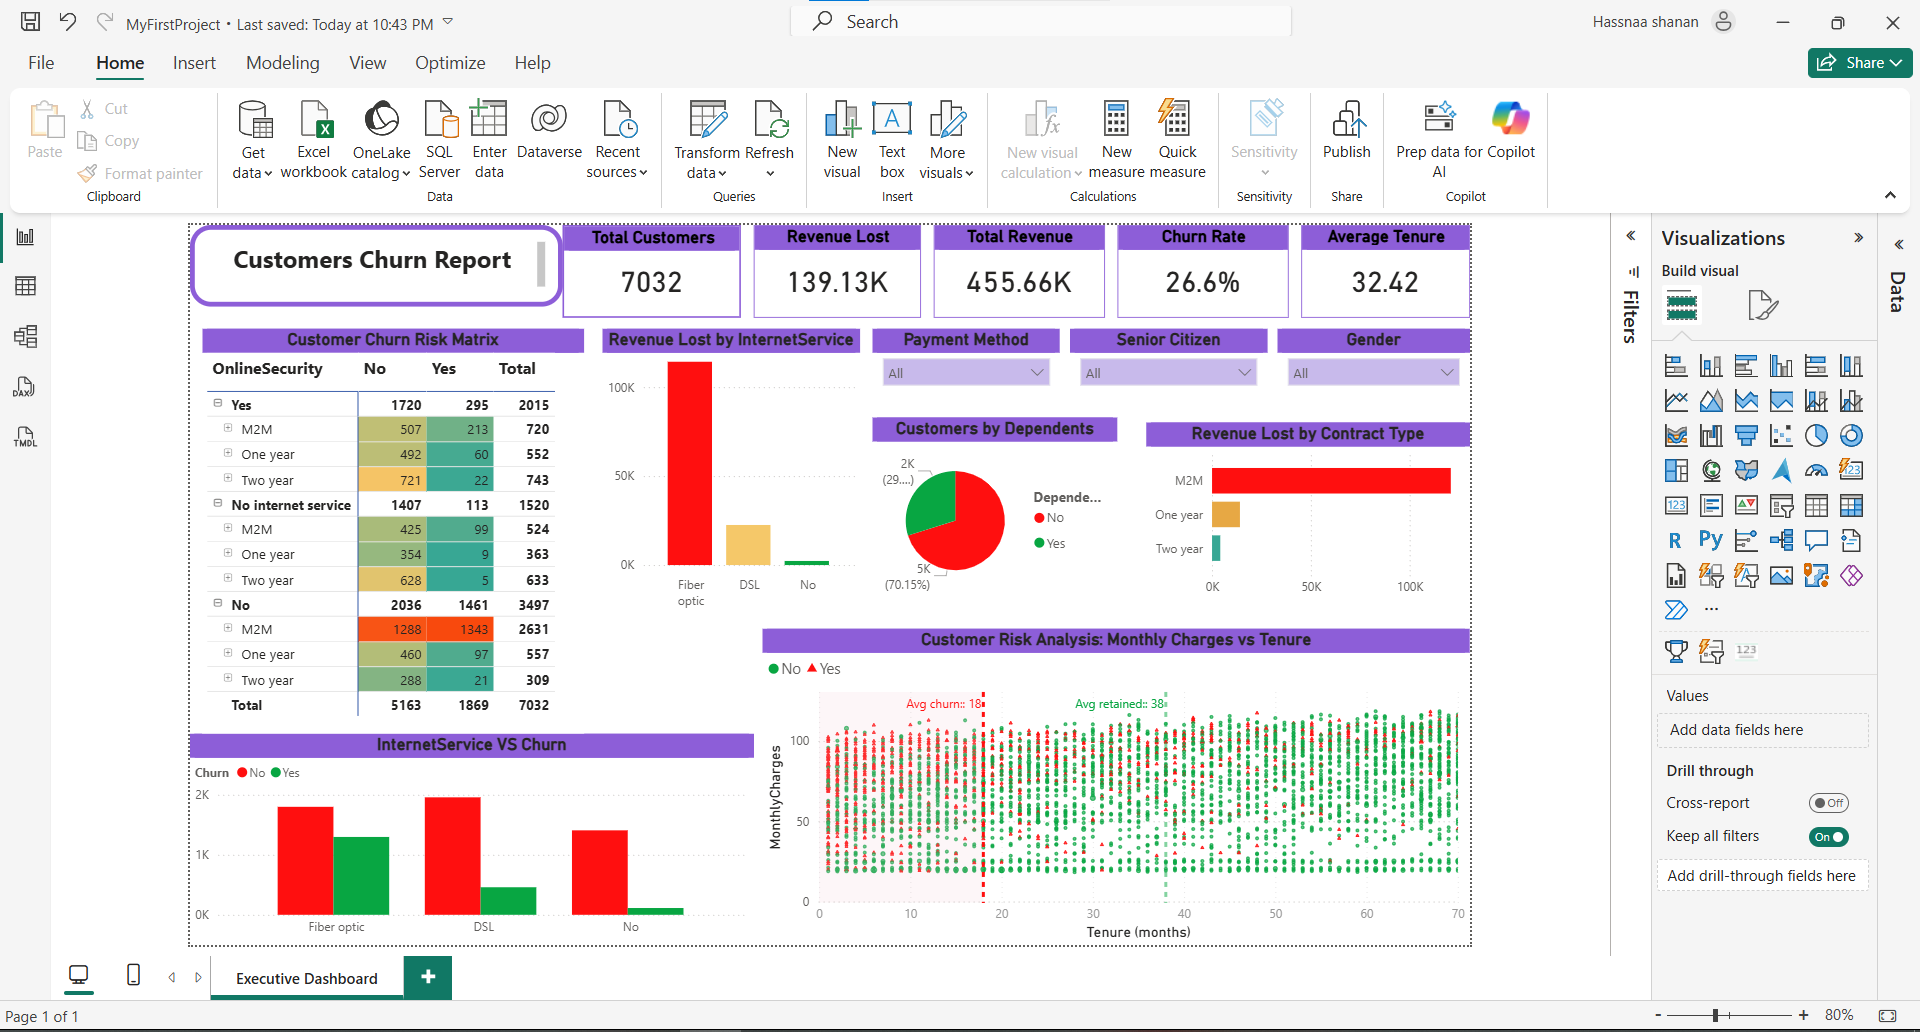

The page's visual inventory and layout, read from the dashboard file:
{"tool":"powerbi","page":{"name":"Executive Dashboard","canvas":[1280,720],"ordinal":0},"visuals":[{"type":"card","title":"Total Customers","fields":{"Values":["Measures (2).#Customers"]},"box":[372.5,0,178.8,92.5],"z":0},{"type":"card","title":"Total Revenue","fields":{"Values":["Measures (2).Total Revenue"]},"box":[743.8,0,171.2,92.5],"z":1000},{"type":"card","title":"Churn Rate","fields":{"Values":["Measures (2).Churn Rate"]},"box":[927.5,0,171.2,92.5],"z":2000},{"type":"card","title":"Revenue Lost","fields":{"Values":["Measures (2).Revenue Lost"]},"box":[563.8,0,167.5,92.5],"z":3000},{"type":"card","title":"Average Tenure","fields":{"Values":["Measures (2).Average Tenure"]},"box":[1111.2,0,168.8,92.5],"z":4000},{"type":"clusteredBarChart","title":"Revenue Lost by Contract Type","fields":{"Category":["Telco_Customer_Churn_Dataset.Contract"],"Y":["Measures (2).Revenue Lost"]},"box":[956.2,197.5,323.8,182.5],"z":6000},{"type":"textbox","box":[0,0,372.5,81.2],"z":7000},{"type":"clusteredColumnChart","title":"InternetService VS Churn","fields":{"Category":["Telco_Customer_Churn_Dataset.InternetService"],"Series":["Telco_Customer_Churn_Dataset.Churn"],"Y":["Measures (2).#Customers"]},"box":[0,508.8,563.8,211.2],"z":8000},{"type":"pieChart","title":"Customers by Dependents","fields":{"Category":["Telco_Customer_Churn_Dataset.Dependents"],"Y":["Measures (2).#Customers"]},"box":[682.5,192.5,245,187.5],"z":9000},{"type":"clusteredColumnChart","fields":{"Category":["Telco_Customer_Churn_Dataset.InternetService"],"Y":["Measures (2).Revenue Lost"]},"box":[412.5,103.8,257.5,287.5],"z":10000},{"type":"scatterChart","title":"Customer Risk Analysis: Monthly Charges vs Tenure","fields":{"Series":["Telco_Customer_Churn_Dataset.Churn"],"X":["Telco_Customer_Churn_Dataset.tenure"],"Y":["Telco_Customer_Churn_Dataset.MonthlyCharges"],"Size":["CountNonNull(Telco_Customer_Churn_Dataset.customerID)"]},"box":[572.5,403.8,707.5,316.2],"z":11000},{"type":"slicer","title":"Gender","fields":{"Values":["Telco_Customer_Churn_Dataset.gender"]},"box":[1087.5,103.8,192.5,78.8],"z":12000},{"type":"slicer","title":"Senior Citizen","fields":{"Values":["Telco_Customer_Churn_Dataset.SeniorCitizen"]},"box":[880,103.8,197.5,75],"z":13000},{"type":"slicer","title":"Payment Method","fields":{"Values":["Telco_Customer_Churn_Dataset.PaymentMethod"]},"box":[682.5,103.8,187.5,75],"z":14000},{"type":"pivotTable","title":"Customer Churn Risk Matrix","fields":{"Rows":["Telco_Customer_Churn_Dataset.OnlineSecurity","Telco_Customer_Churn_Dataset.Contract","Telco_Customer_Churn_Dataset.TechSupport"],"Columns":["Telco_Customer_Churn_Dataset.Churn"],"Values":["Measures (2).#Customers"]},"box":[12.5,103.8,381.2,405],"z":15000}]}

Visuals, with their boxes on the page's 1280x720 design canvas (x1, y1, x2, y2). These are canvas units, not pixel positions in the 1920x1032 screenshot, which may show the page scaled, cropped or inside an application window:
"Total Customers" card: bbox(372, 0, 551, 92)
"Total Revenue" card: bbox(744, 0, 915, 92)
"Churn Rate" card: bbox(928, 0, 1099, 92)
"Revenue Lost" card: bbox(564, 0, 731, 92)
"Average Tenure" card: bbox(1111, 0, 1280, 92)
"Revenue Lost by Contract Type" clusteredBarChart: bbox(956, 198, 1280, 380)
textbox: bbox(0, 0, 372, 81)
"InternetService VS Churn" clusteredColumnChart: bbox(0, 509, 564, 720)
"Customers by Dependents" pieChart: bbox(682, 192, 928, 380)
clusteredColumnChart - Telco_Customer_Churn_Dataset.InternetService x Measures (2).Revenue Lost: bbox(412, 104, 670, 391)
"Customer Risk Analysis: Monthly Charges vs Tenure" scatterChart: bbox(572, 404, 1280, 720)
"Gender" slicer: bbox(1088, 104, 1280, 183)
"Senior Citizen" slicer: bbox(880, 104, 1078, 179)
"Payment Method" slicer: bbox(682, 104, 870, 179)
"Customer Churn Risk Matrix" pivotTable: bbox(12, 104, 394, 509)
